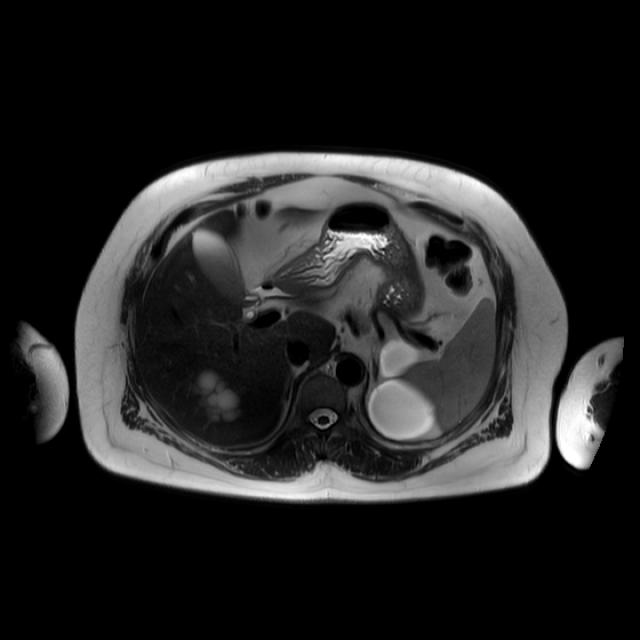sag: (195, 373, 244, 424)
sol: (370, 339, 437, 441)
